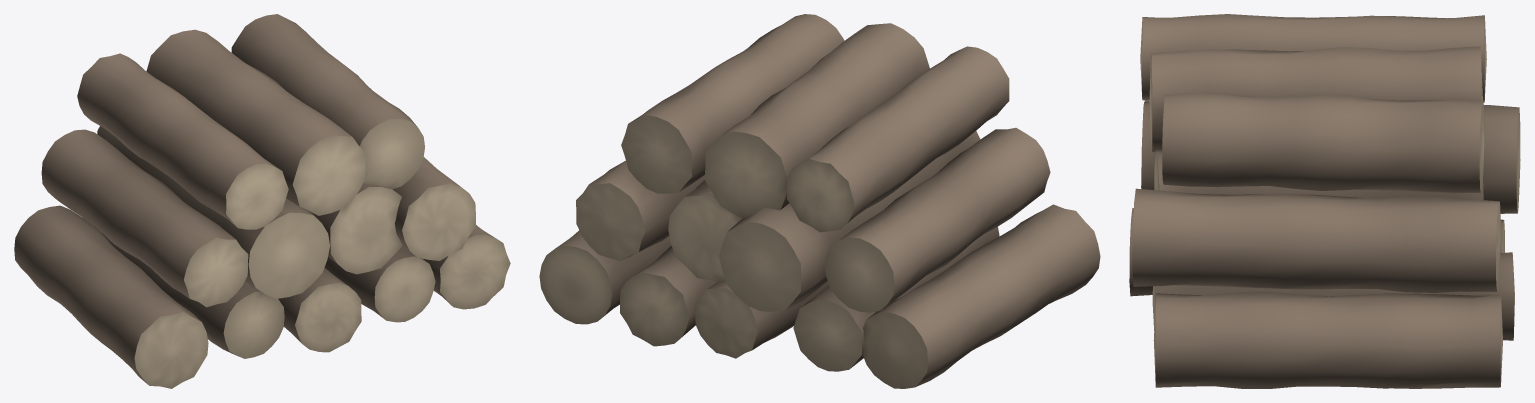
The model's file is wood-pile.glb.
3 renders of one model, left to right at view 1: azimuth 30°, elevation 25°; view 2: azimuth 150°, elevation 25°; view 3: azimuth 270°, elevation 25°, orthographic. The views are drawn at different scales.
Parts seen in each view (by area): view 1: Body_lod0; view 2: Body_lod0; view 3: Body_lod0.
Boxes of the visible parts, left/top/right/bottom form: Body_lod0: left=14, top=14, right=510, bottom=388; Body_lod0: left=539, top=14, right=1100, bottom=388; Body_lod0: left=1129, top=14, right=1520, bottom=388.
Size of what is drawn, in the model's own units: 0.7477 by 0.4017 by 0.5739.
